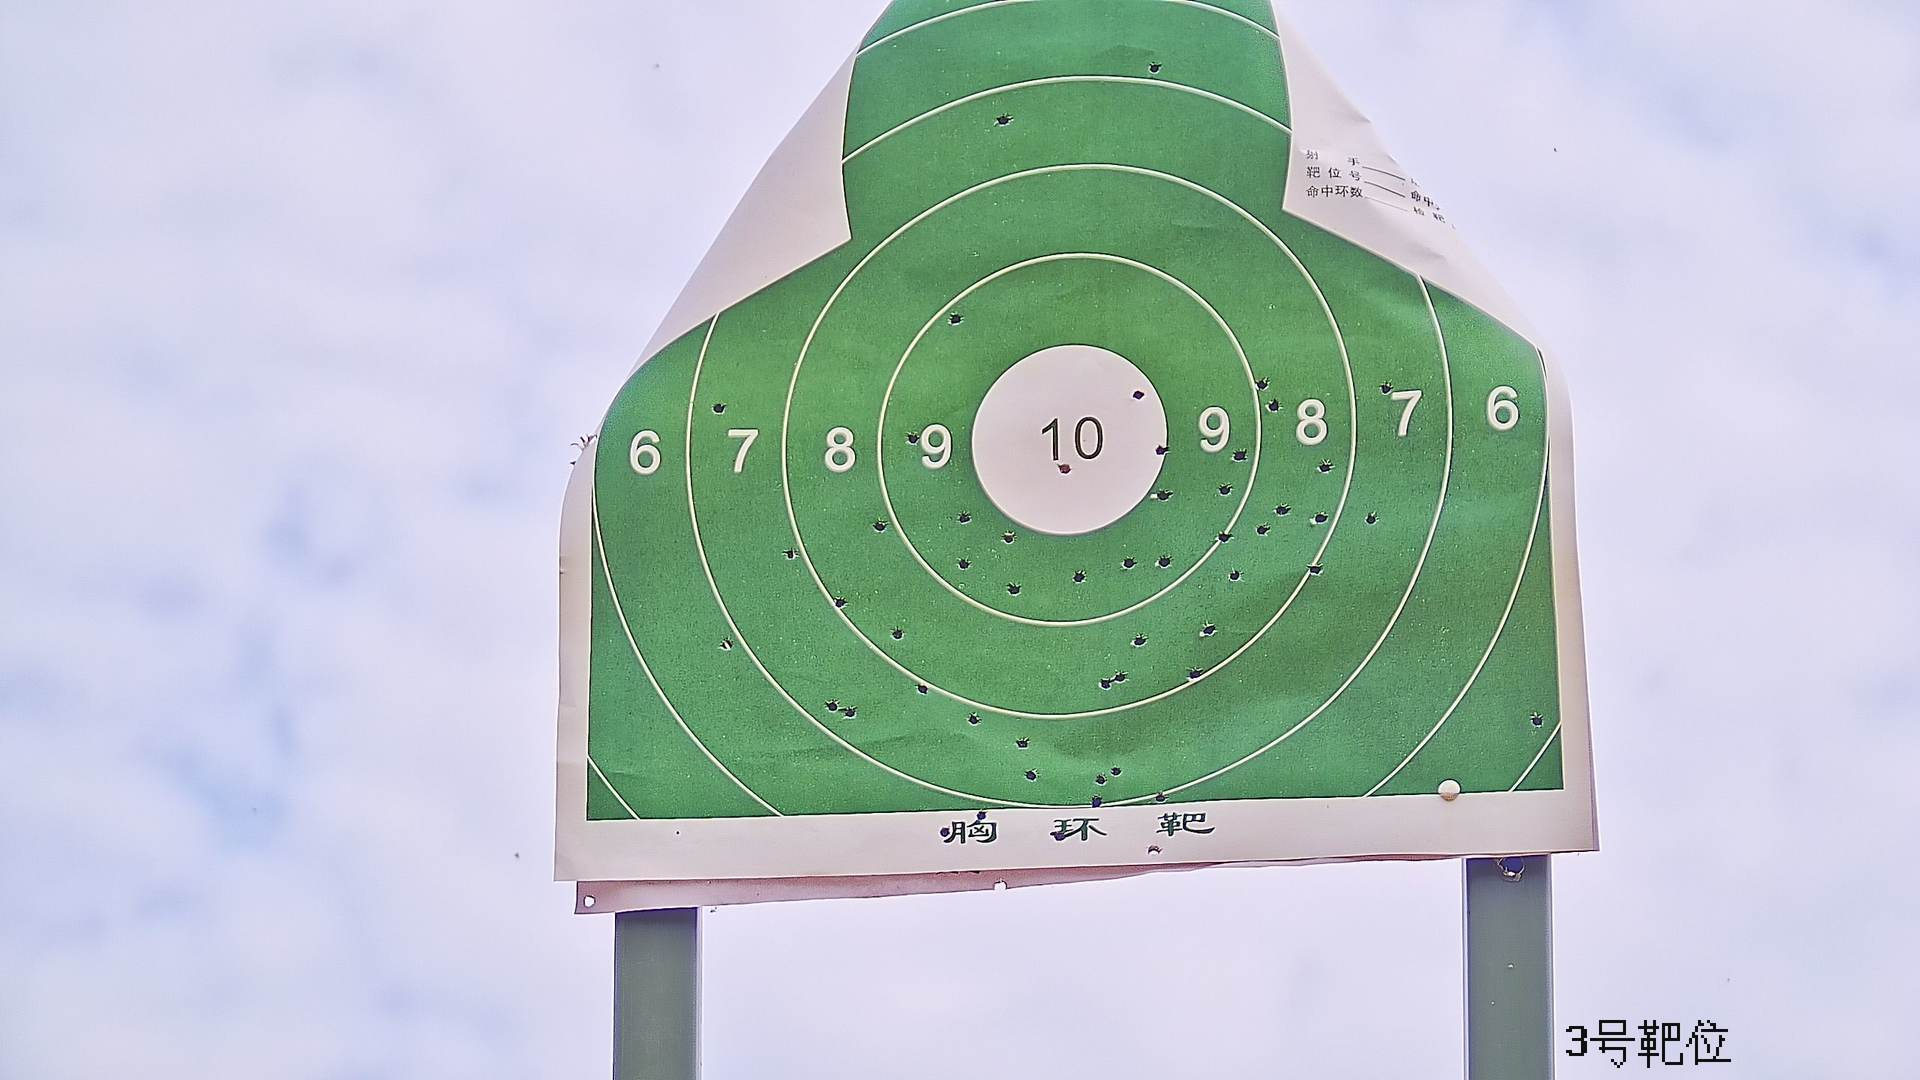hole: (993, 113, 1013, 127), (1218, 483, 1233, 500), (1069, 568, 1087, 583), (1274, 502, 1292, 516), (709, 402, 728, 415), (959, 506, 971, 526), (1217, 530, 1233, 545), (1025, 767, 1040, 782), (913, 680, 928, 695), (1133, 633, 1147, 647), (1365, 510, 1378, 526), (1203, 621, 1216, 637), (1058, 462, 1073, 475), (1255, 376, 1269, 390), (1233, 448, 1247, 462), (1319, 460, 1333, 473), (1528, 712, 1542, 727), (1228, 568, 1241, 583), (1188, 666, 1201, 680), (1155, 488, 1170, 501), (1158, 554, 1171, 568), (1121, 556, 1135, 570), (1098, 676, 1112, 691), (1015, 737, 1029, 752), (1004, 530, 1017, 545), (825, 698, 839, 712), (948, 313, 964, 324), (1266, 400, 1282, 411), (872, 518, 887, 530), (1309, 563, 1323, 576), (1156, 443, 1170, 456), (1091, 794, 1102, 808), (938, 825, 952, 837), (1379, 382, 1393, 394), (1315, 512, 1328, 524), (1255, 525, 1269, 537), (1110, 764, 1124, 775), (976, 808, 988, 822), (1009, 582, 1021, 595), (907, 431, 919, 444), (957, 556, 971, 568), (845, 705, 857, 719), (835, 595, 847, 608), (785, 547, 796, 560), (891, 625, 902, 640), (720, 637, 731, 651), (1149, 63, 1160, 75), (1133, 388, 1145, 400), (1095, 773, 1106, 785), (1153, 791, 1163, 804), (1147, 847, 1160, 857), (1116, 671, 1126, 683), (1054, 829, 1065, 840), (969, 712, 978, 724)
kernel: (1063, 438, 1065, 440)
target: (588, 7, 1569, 815)
ten: (968, 344, 1168, 533)
